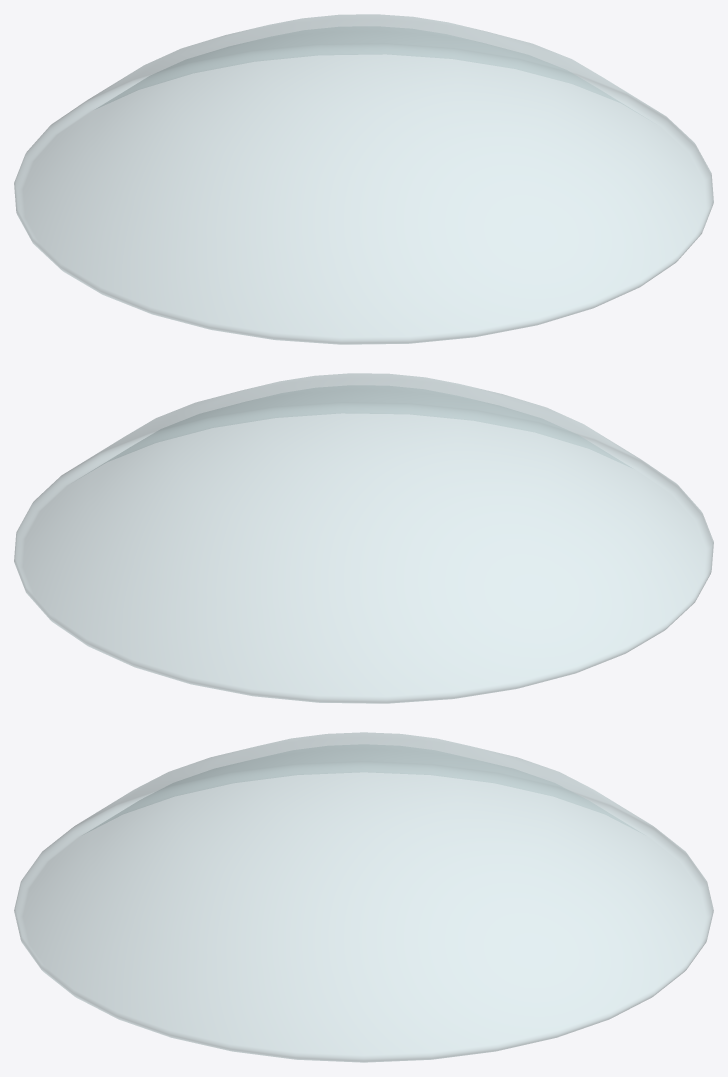
File: contact-lens.glb
3 renders of one model, top to bottom at view 1: azimuth 30°, elevation 25°; view 2: azimuth 150°, elevation 25°; view 3: azimuth 270°, elevation 25°, orthographic.
Visible parts, largest first — view 1: Sphere; view 2: Sphere; view 3: Sphere.
Boxes of the visible parts, x1,y1,x2,y2 form: Sphere: (14, 14, 713, 344); Sphere: (14, 373, 713, 703); Sphere: (14, 732, 713, 1062).
Bounding box in the file's own units: 0.7035 × 0.1539 × 0.7035.
